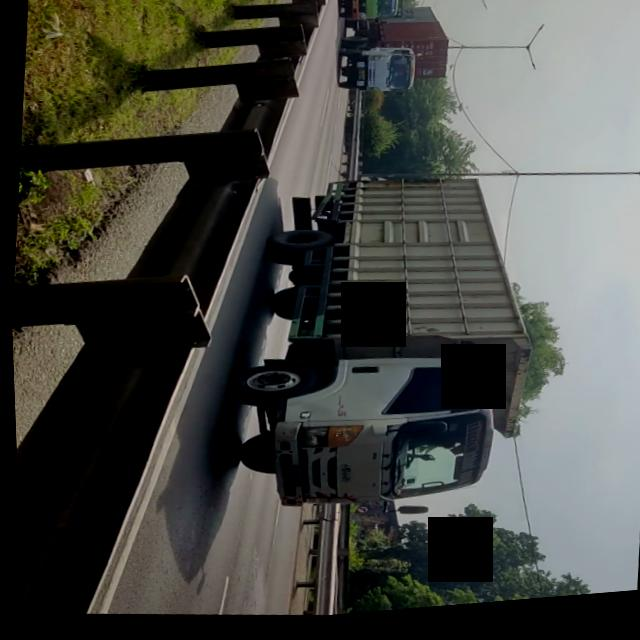Golongan II: (201, 163, 542, 535)
